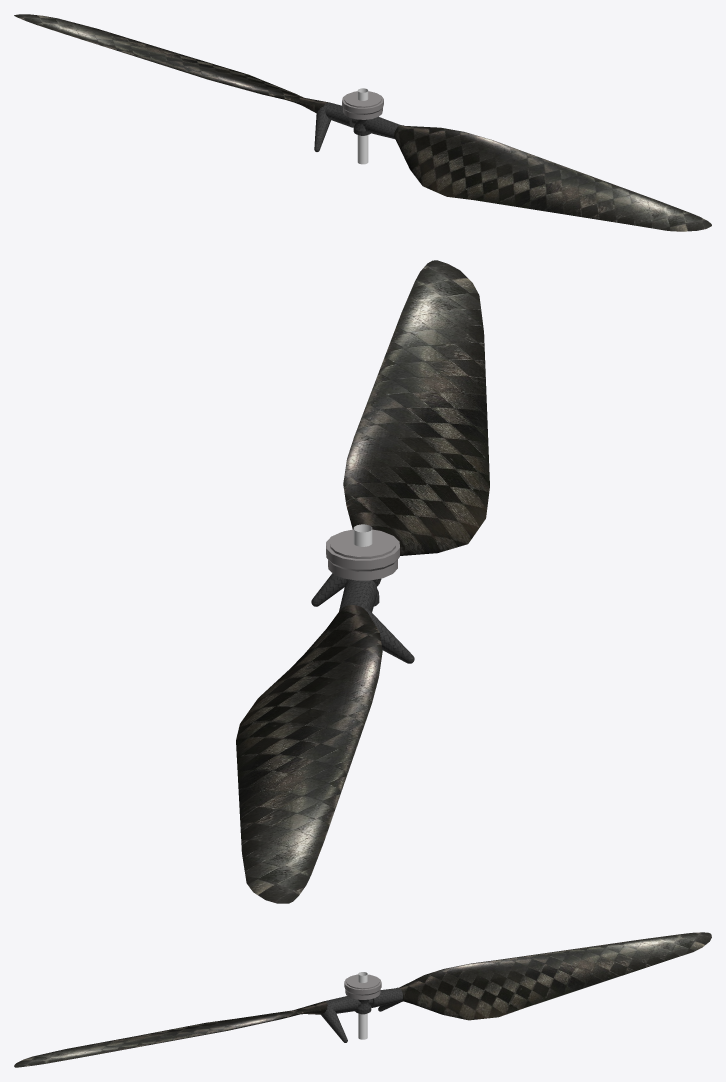
Rendered from rotor_upper.glb.
3 renders of one model, top to bottom at view 1: azimuth 30°, elevation 25°; view 2: azimuth 150°, elevation 25°; view 3: azimuth 270°, elevation 25°, orthographic. The views are drawn at different scales.
Parts seen in each view (by area): view 1: rotor_upper; view 2: rotor_upper; view 3: rotor_upper.
Part boxes in pixels (x1,y1,x2,y2): rotor_upper: (14,14,711,231); rotor_upper: (236,260,489,903); rotor_upper: (14,932,711,1067).
Size of the model in its own units: 0.5055 by 0.1117 by 1.11.
4 materials, 2 textured.
